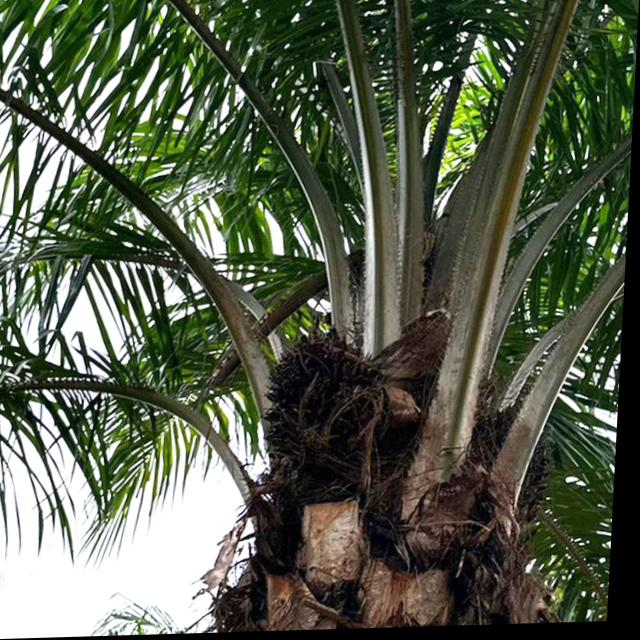ripe: (256, 318, 389, 452)
